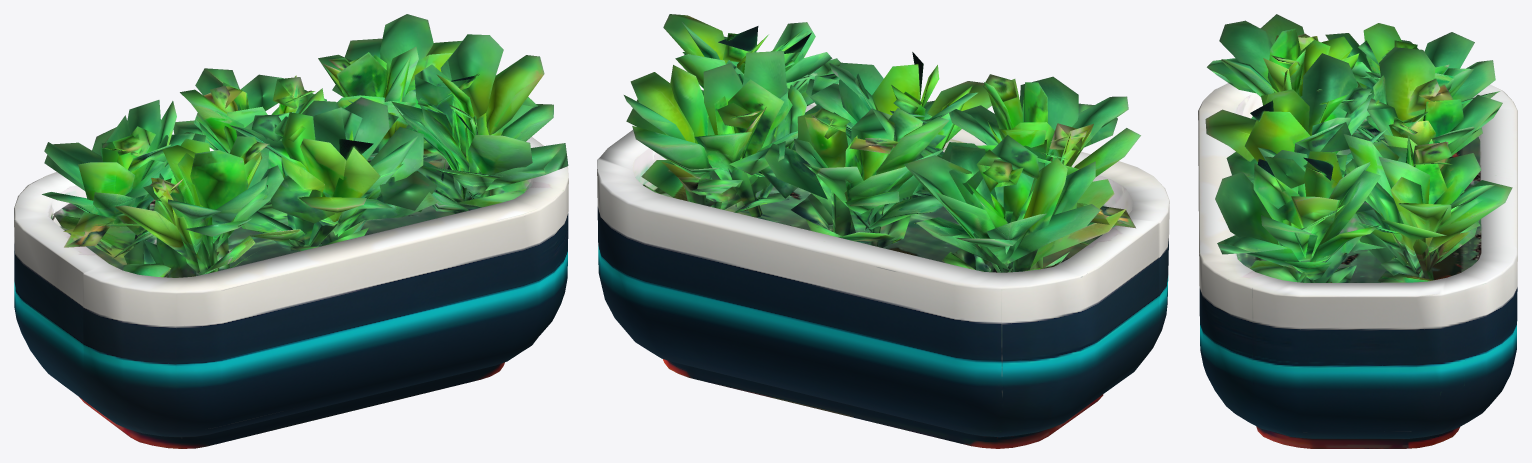
The model's file is planter.glb.
3 renders of one model, left to right at view 1: azimuth 30°, elevation 25°; view 2: azimuth 150°, elevation 25°; view 3: azimuth 270°, elevation 25°, orthographic. The views are drawn at different scales.
Size of the model in its own units: 1 by 0.5879 by 0.5918.
1 material, 1 textured.
